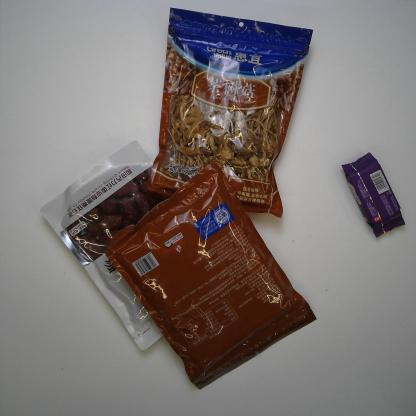Dessert: (340, 148, 407, 242)
Dried Food: (100, 154, 318, 396), (145, 4, 315, 220), (34, 139, 176, 356)
